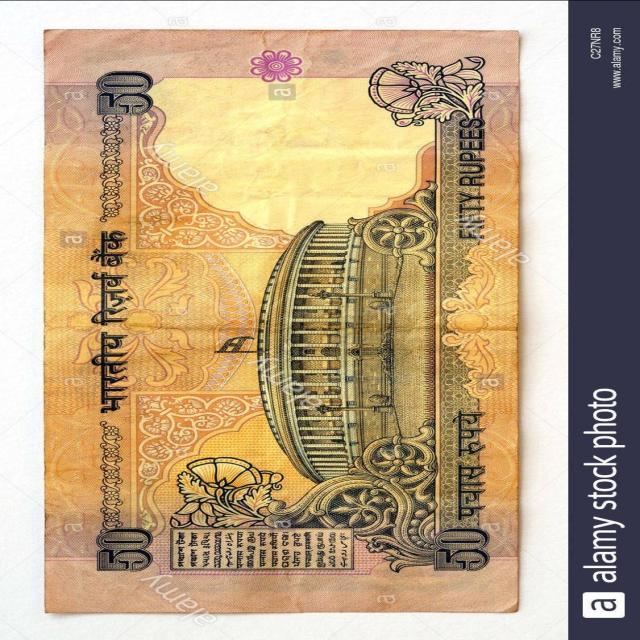50IndianRupees: (59, 32, 518, 611)
